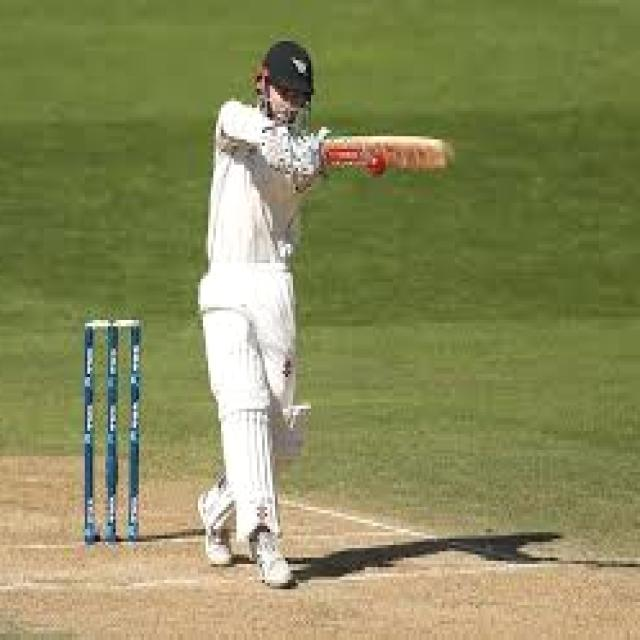toe: (422, 134, 463, 180)
